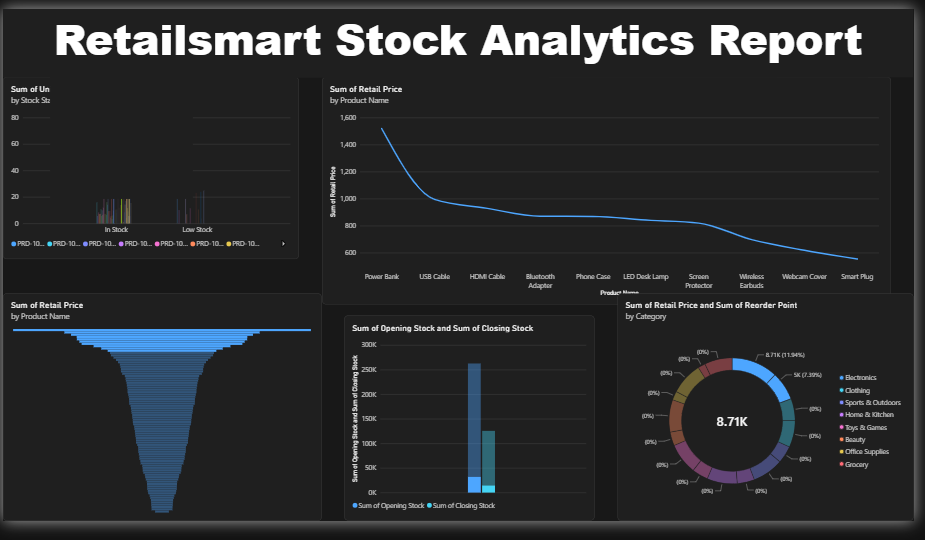

The dashboard page shown, as its layout file describes it:
{"tool":"powerbi","page":{"name":"Page 1","canvas":[1920,1080],"ordinal":0},"visuals":[{"type":"clusteredColumnChart","fields":{"Y":["Sum(Retail Inventory.Opening Stock)","Sum(Retail Inventory.Closing Stock)"]},"box":[720,648,528,432],"z":0},{"type":"lineChart","fields":{"Category":["Retail Inventory.Product Name"],"Y":["Sum(Retail Inventory.Retail Price)"]},"box":[672,144,1200,480],"z":1000},{"type":"funnel","fields":{"Category":["Retail Inventory.Product Name"],"Y":["Sum(Retail Inventory.Retail Price)"]},"box":[0,600,672,480],"z":2000},{"type":"donutChart","fields":{"Category":["Retail Inventory.Category"],"Y":["Sum(Retail Inventory.Retail Price)","Sum(Retail Inventory.Reorder Point)"]},"box":[1296,600,624,480],"z":3000},{"type":"lineClusteredColumnComboChart","fields":{"Category":["Retail Inventory.Stock Status"],"Series":["Retail Inventory.Product ID"],"Y":["Sum(Retail Inventory.Unit Cost)"]},"box":[0,144,624,384],"z":4000},{"type":"textbox","box":[100,100,300,300],"z":5000},{"type":"textbox","box":[100,100,300,300],"z":6000},{"type":"textbox","box":[240,96,912,48],"z":7000},{"type":"textbox","box":[100,100,300,300],"z":8000},{"type":"textbox","box":[100,100,300,300],"z":9000},{"type":"textbox","box":[336,0,1488,144],"z":10000},{"type":"textbox","box":[480,0,1152,144],"z":11000},{"type":"textbox","box":[0,0,1920,144],"z":11001}]}

Visuals, with their boxes on the page's 1920x1080 design canvas (x1, y1, x2, y2). These are canvas units, not pixel positions in the 925x540 screenshot, which may show the page scaled, cropped or inside an application window:
clusteredColumnChart - Sum(Retail Inventory.Opening Stock) x Sum(Retail Inventory.Closing Stock): l=720, t=648, r=1248, b=1080
lineChart - Retail Inventory.Product Name x Sum(Retail Inventory.Retail Price): l=672, t=144, r=1872, b=624
funnel - Retail Inventory.Product Name x Sum(Retail Inventory.Retail Price): l=0, t=600, r=672, b=1080
donutChart - Retail Inventory.Category x Sum(Retail Inventory.Retail Price): l=1296, t=600, r=1920, b=1080
lineClusteredColumnComboChart - Retail Inventory.Stock Status x Retail Inventory.Product ID: l=0, t=144, r=624, b=528
textbox: l=100, t=100, r=400, b=400
textbox: l=100, t=100, r=400, b=400
textbox: l=240, t=96, r=1152, b=144
textbox: l=100, t=100, r=400, b=400
textbox: l=100, t=100, r=400, b=400
textbox: l=336, t=0, r=1824, b=144
textbox: l=480, t=0, r=1632, b=144
textbox: l=0, t=0, r=1920, b=144
